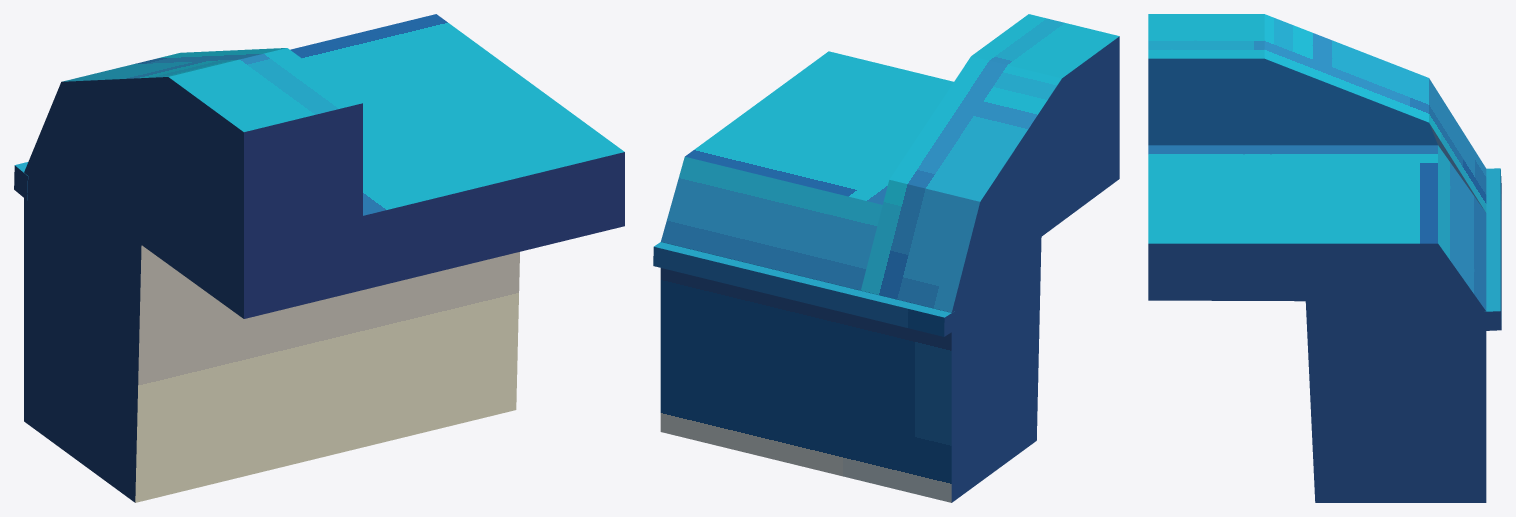
Rendered from df5_carport_4.obj.
The picture shows the model from 3 angles, left to right: view 1: azimuth 30°, elevation 25°; view 2: azimuth 150°, elevation 25°; view 3: azimuth 270°, elevation 25°; orthographic projection. The views are drawn at different scales.
Visible parts, largest first — view 1: cube_selection; view 2: cube_selection; view 3: cube_selection.
Part boxes in pixels (x1,y1,x2,y2): cube_selection: (14,14,624,502); cube_selection: (653,14,1119,502); cube_selection: (1148,14,1501,502).
Bounding box in the file's own units: 1 × 1.13 × 1.05.
